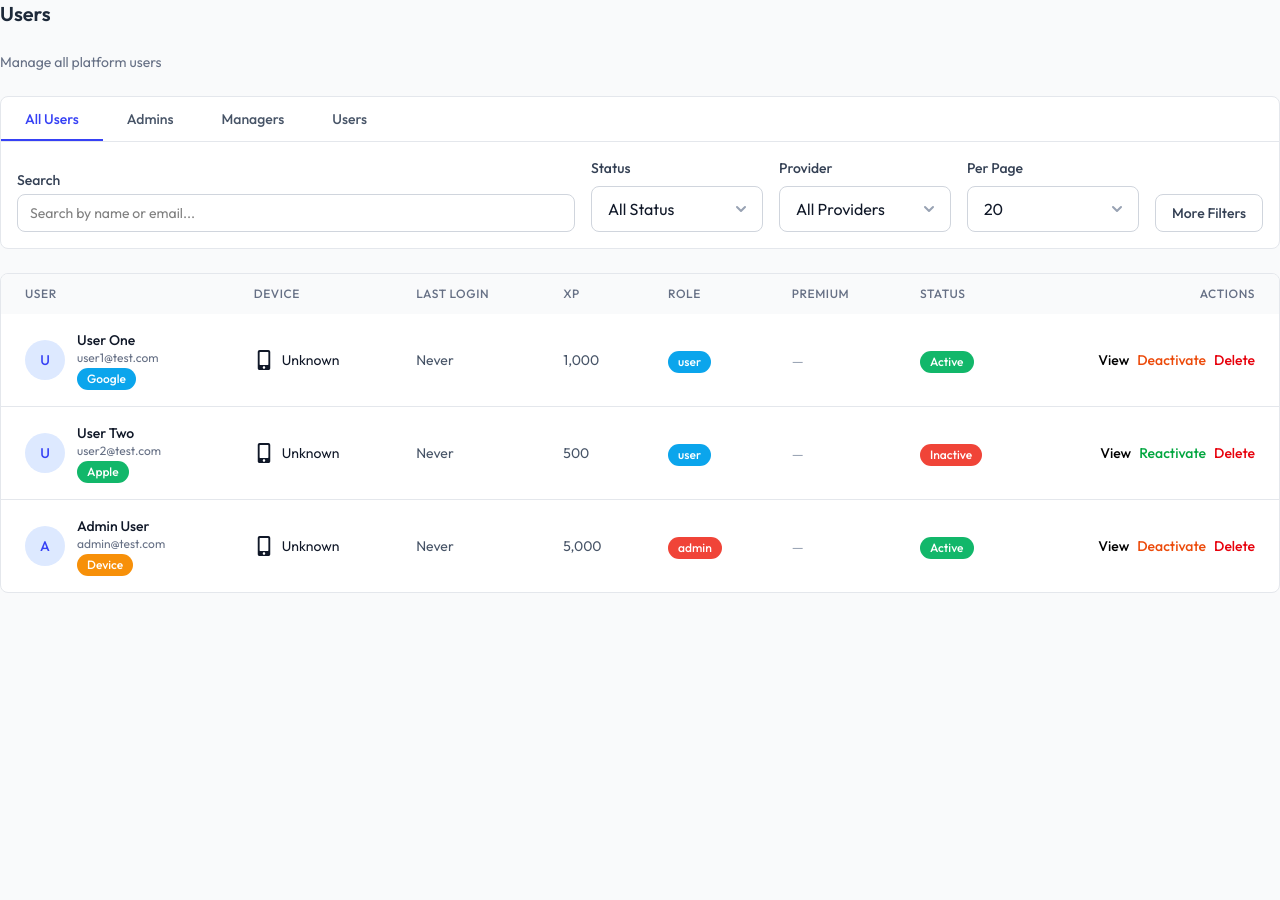
Test: UsersPage › User Actions › opens confirmation modal on action click
Click the button "Deactivate" in the row of "user1@test.com" at (1172, 360), box top-left (1137, 350), bottom-right (1206, 370)
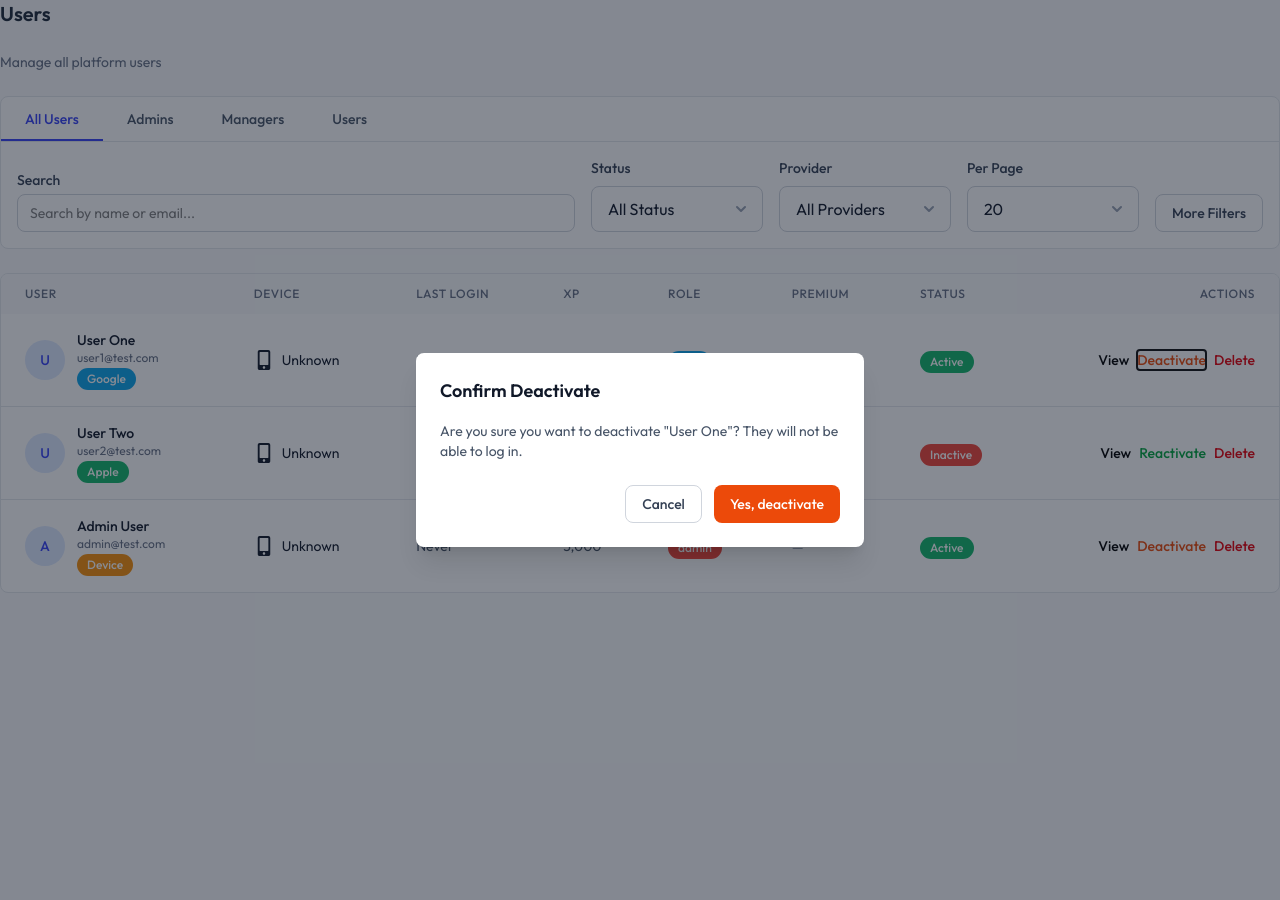
Expected: the heading "Confirm Deactivate" is shown, top-left (440, 379), bottom-right (600, 402)
Expected: the text "Are you sure" is shown, top-left (440, 422), bottom-right (838, 460)
